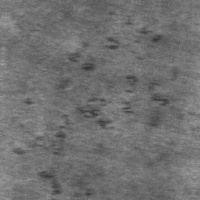rolled-in_scale: (34, 76, 156, 197), (40, 18, 133, 72)
